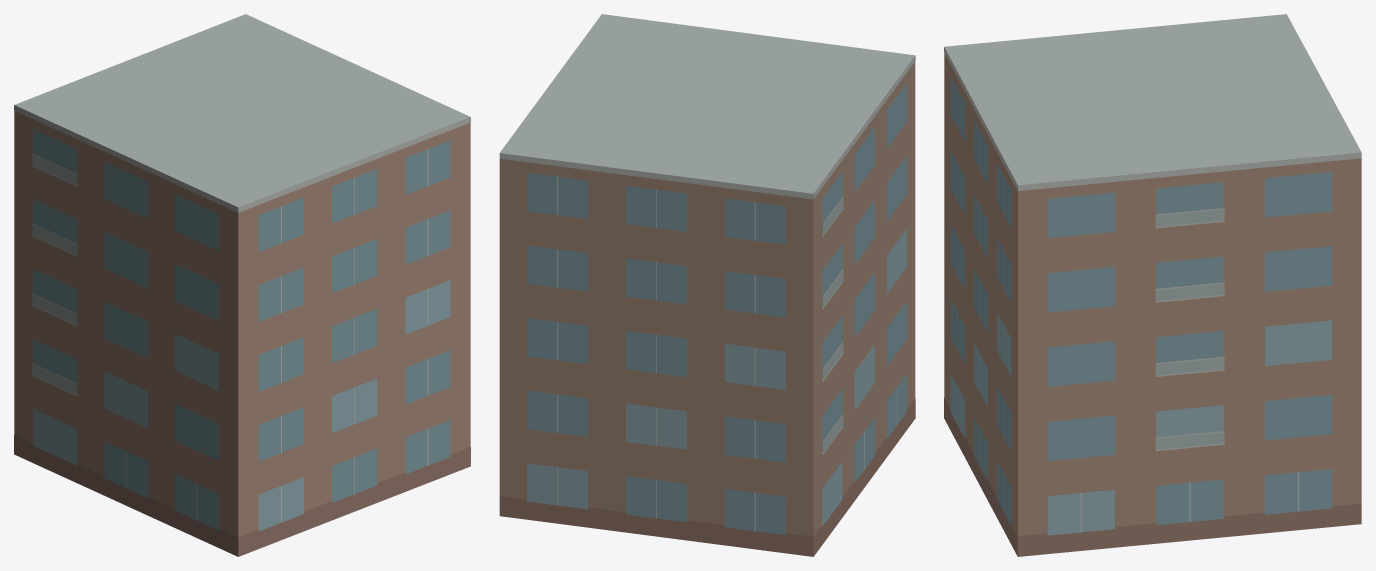
File: survey-upis-32847385.glb
The picture shows the model from 3 angles, left to right: view 1: azimuth 30°, elevation 25°; view 2: azimuth 150°, elevation 25°; view 3: azimuth 270°, elevation 25°; orthographic projection. The views are drawn at different scales.
Visible parts, largest first — view 1: survey-upis-32847385.tmp; view 2: survey-upis-32847385.tmp; view 3: survey-upis-32847385.tmp.
Part boxes in pixels (bbox=[...]): survey-upis-32847385.tmp: bbox=[14, 14, 470, 556]; survey-upis-32847385.tmp: bbox=[499, 14, 915, 556]; survey-upis-32847385.tmp: bbox=[944, 14, 1361, 556].
Size of the model in its own units: 15.43 by 15.6 by 15.9.
